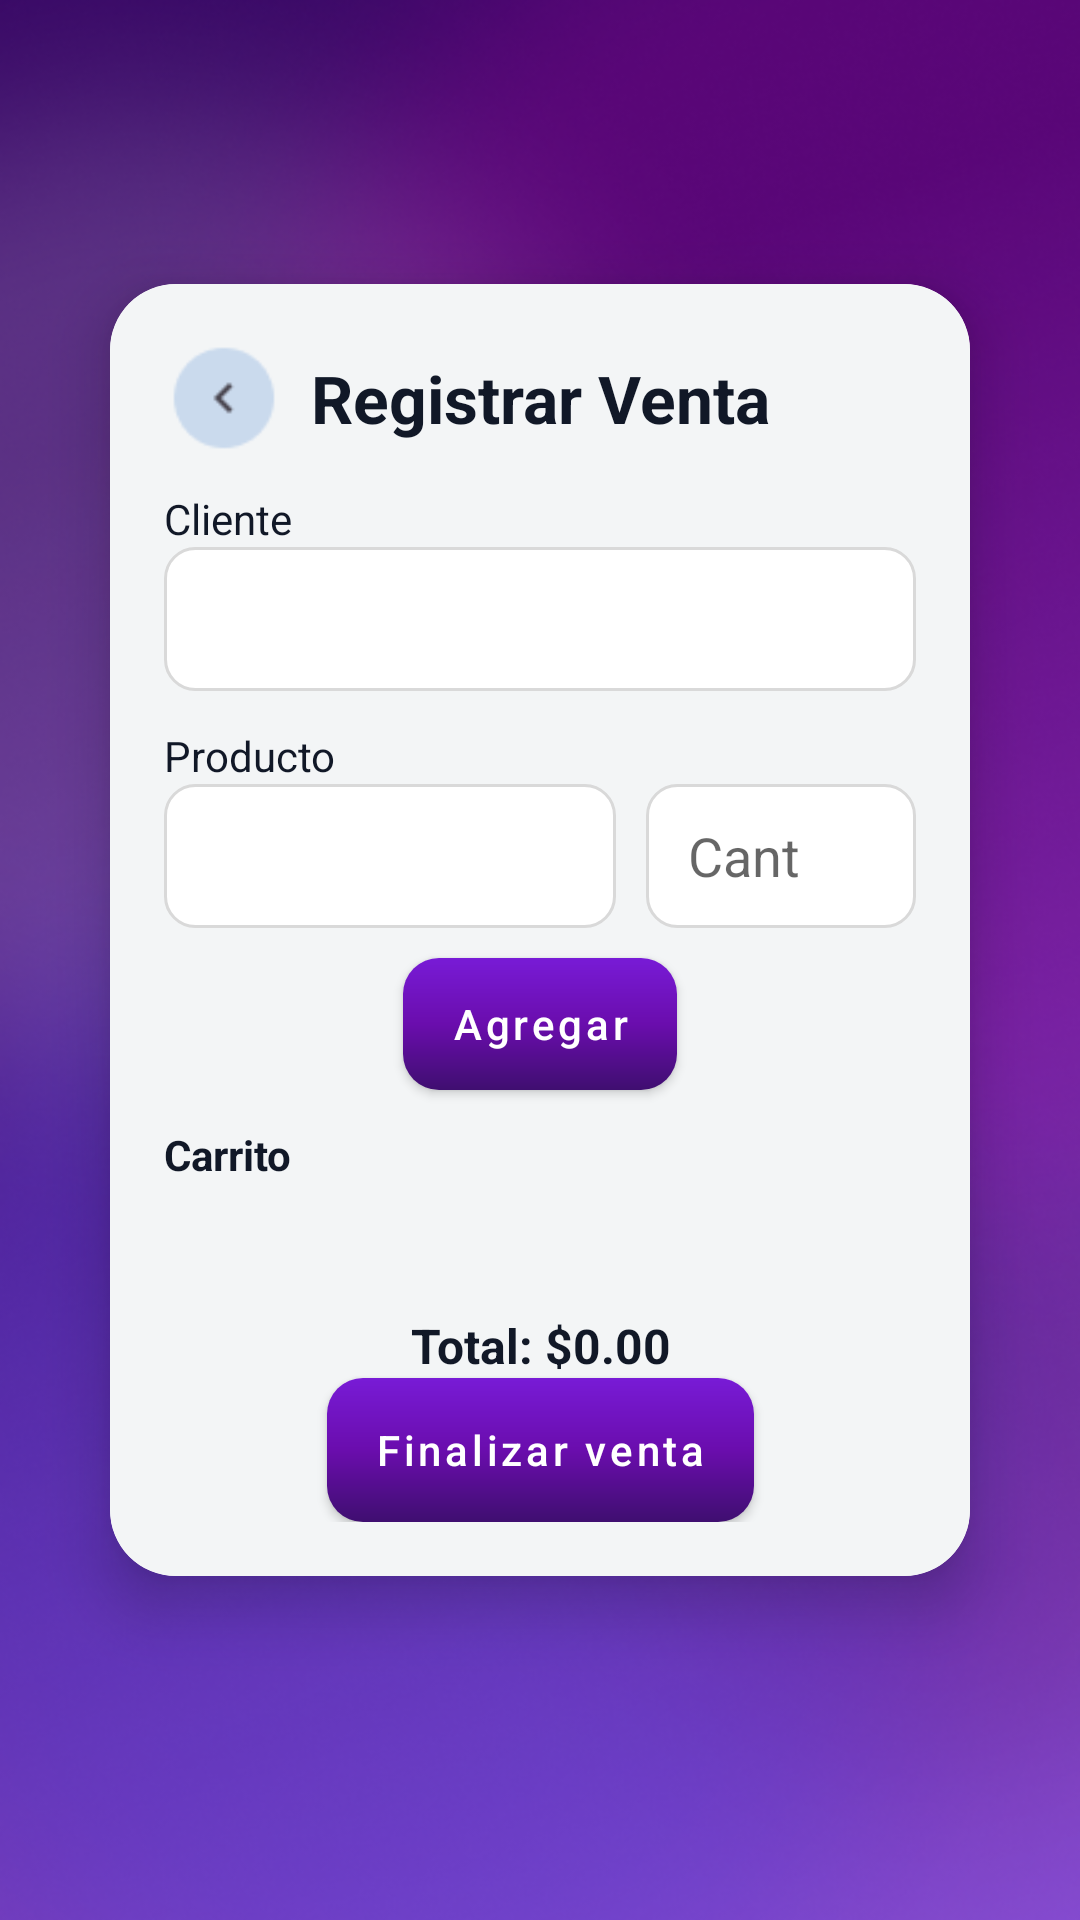

Where to tap for icons on this 1080px×1920px app screen, as (x=x, y=y):
Volver: (x=224, y=398)
